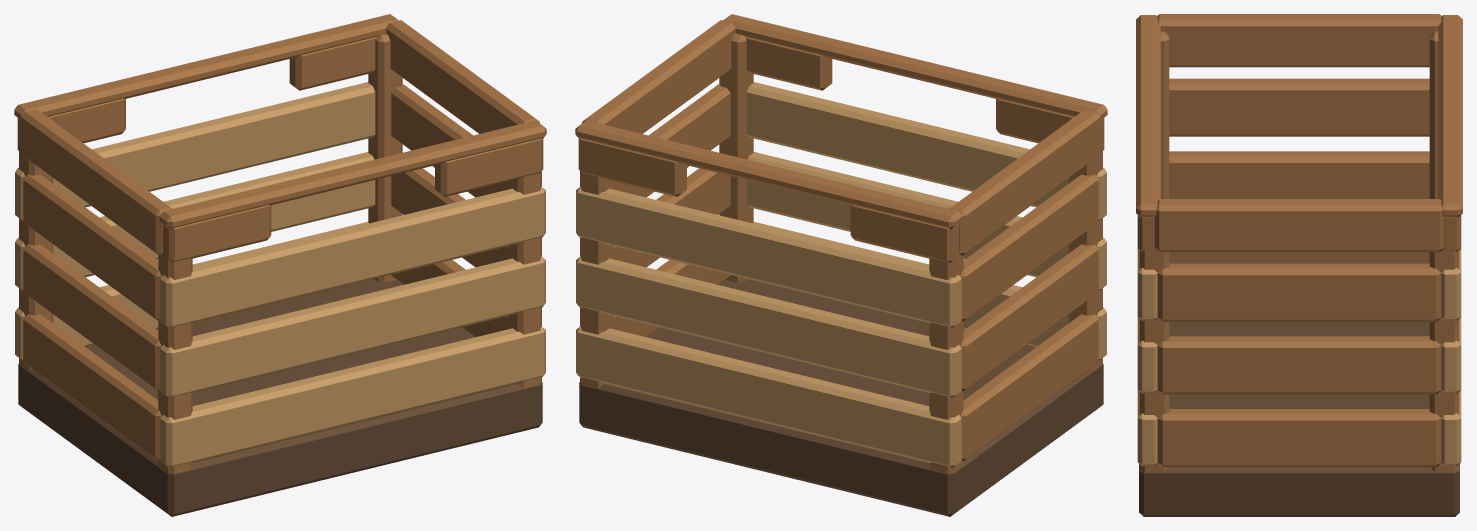
The model's file is b14_open_slatted_parts_crate.glb.
3 renders of one model, left to right at view 1: azimuth 30°, elevation 25°; view 2: azimuth 150°, elevation 25°; view 3: azimuth 270°, elevation 25°, orthographic. The views are drawn at different scales.
Parts seen in each view (by area): view 1: b14_open_slatted_parts_crate; view 2: b14_open_slatted_parts_crate; view 3: b14_open_slatted_parts_crate.
Part boxes in pixels (x1,y1,x2,y2): b14_open_slatted_parts_crate: (14, 14, 546, 516); b14_open_slatted_parts_crate: (575, 14, 1107, 516); b14_open_slatted_parts_crate: (1136, 14, 1462, 516).
Bounding box in the file's own units: 0.748 × 0.5625 × 0.53.
